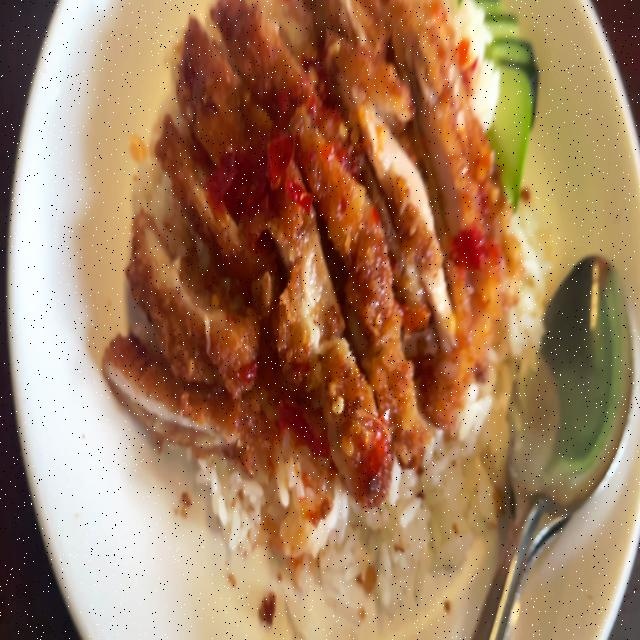chicken_rice: (108, 0, 547, 616)
cucumber: (460, 0, 545, 206)
fried_chicken: (100, 0, 506, 537)
